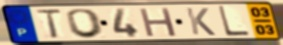4: (112, 7, 141, 39)
H: (138, 7, 179, 38)
K: (184, 7, 218, 37)
L: (216, 5, 252, 38)
O: (65, 8, 107, 40)
T: (34, 8, 65, 40)
